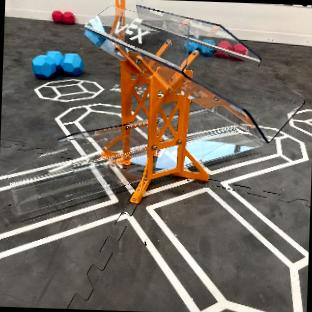V5_BLUE: (32, 50, 84, 77)
